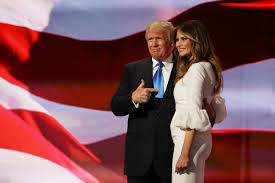hand: (124, 78, 166, 107)
